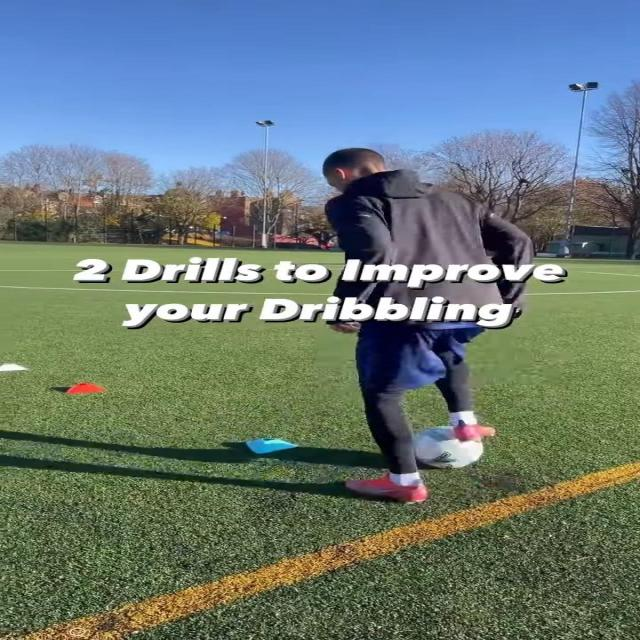Soccer Ball: (409, 426, 485, 470)
